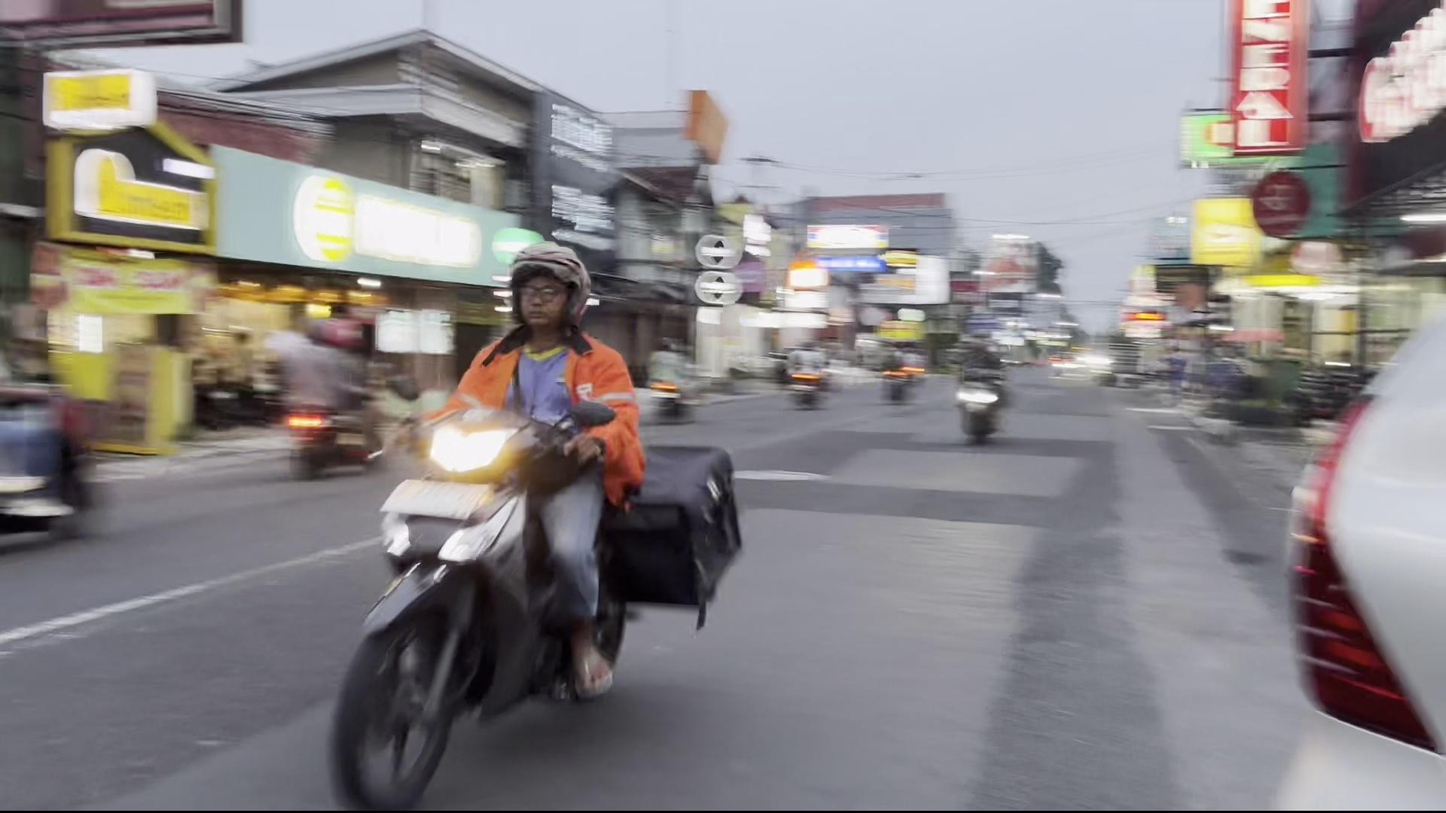helm: (504, 240, 596, 338)
riding: (321, 236, 750, 813)
